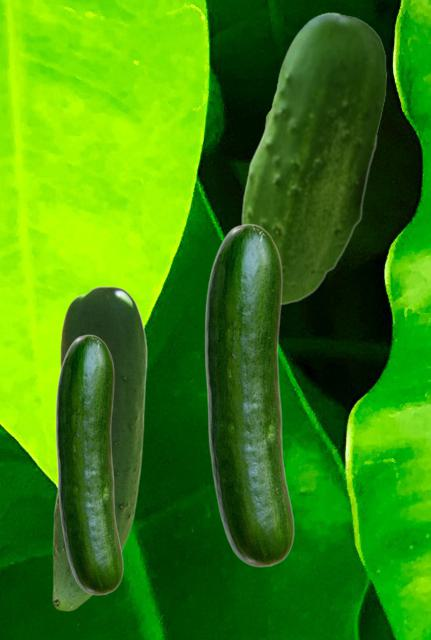cucumber: (241, 12, 385, 304), (204, 223, 293, 566), (52, 286, 146, 610), (55, 334, 122, 594)
